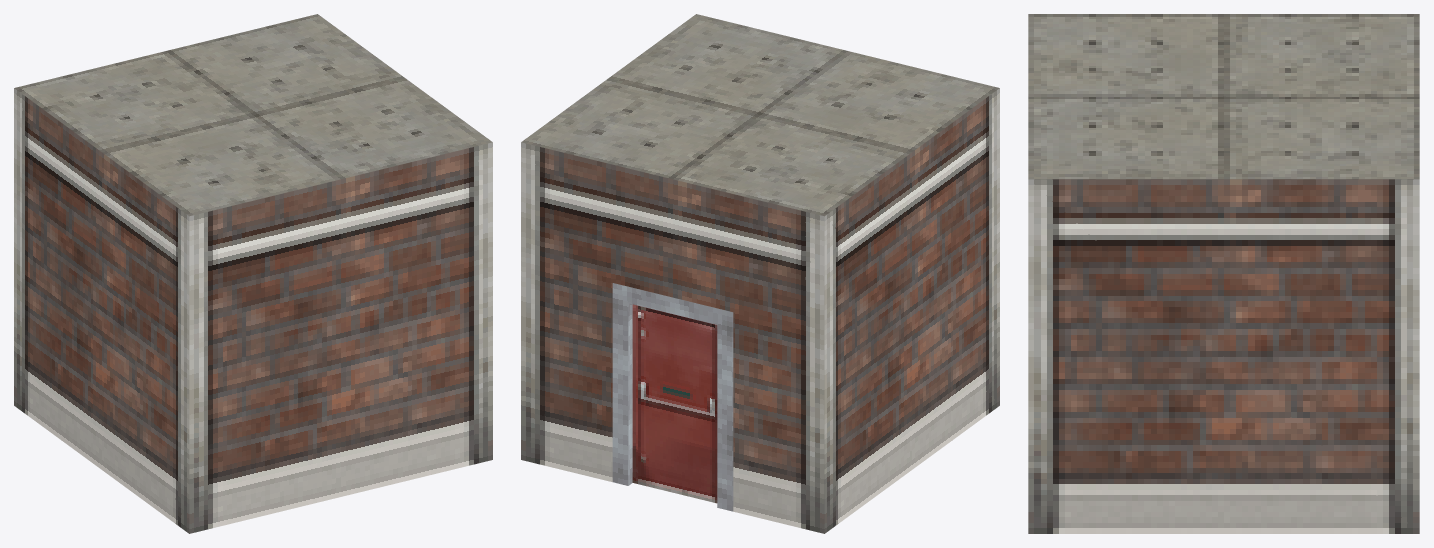
Rendered from wall-a-door.opt.glb.
3 views of the same model, side by side, from view 1: azimuth 30°, elevation 25°; view 2: azimuth 150°, elevation 25°; view 3: azimuth 270°, elevation 25° (orthographic). The views are drawn at different scales.
Bounding box in the file's own units: 1 × 1 × 1.
Materials: 4 (4 with a texture image).
